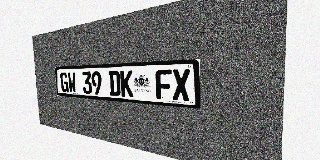3: (82, 71, 92, 94)
9: (91, 71, 102, 95)
D: (108, 71, 121, 96)
F: (155, 69, 172, 100)
G: (60, 72, 69, 93)
K: (120, 70, 133, 97)
W: (67, 72, 77, 93)
X: (172, 69, 190, 101)
